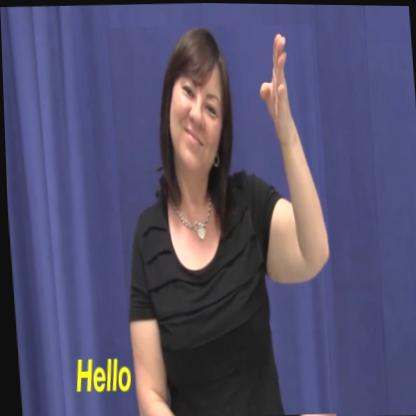Hello: (106, 20, 340, 416)
